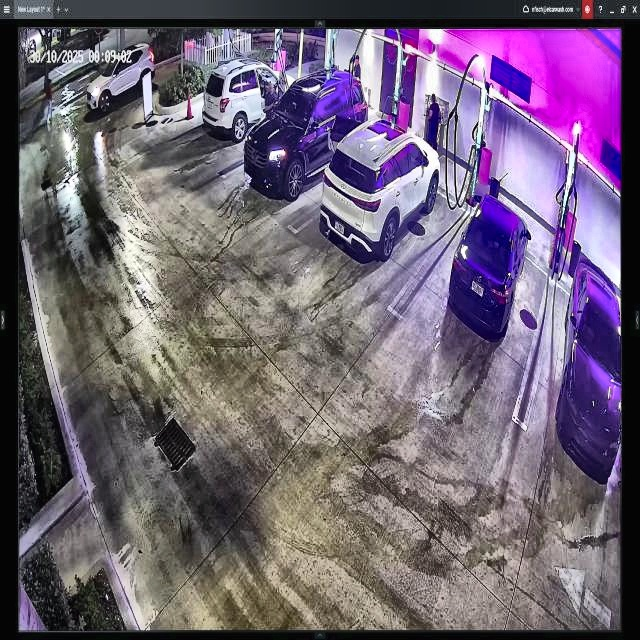Car: (316, 119, 440, 256), (245, 69, 367, 197), (447, 189, 528, 334)
